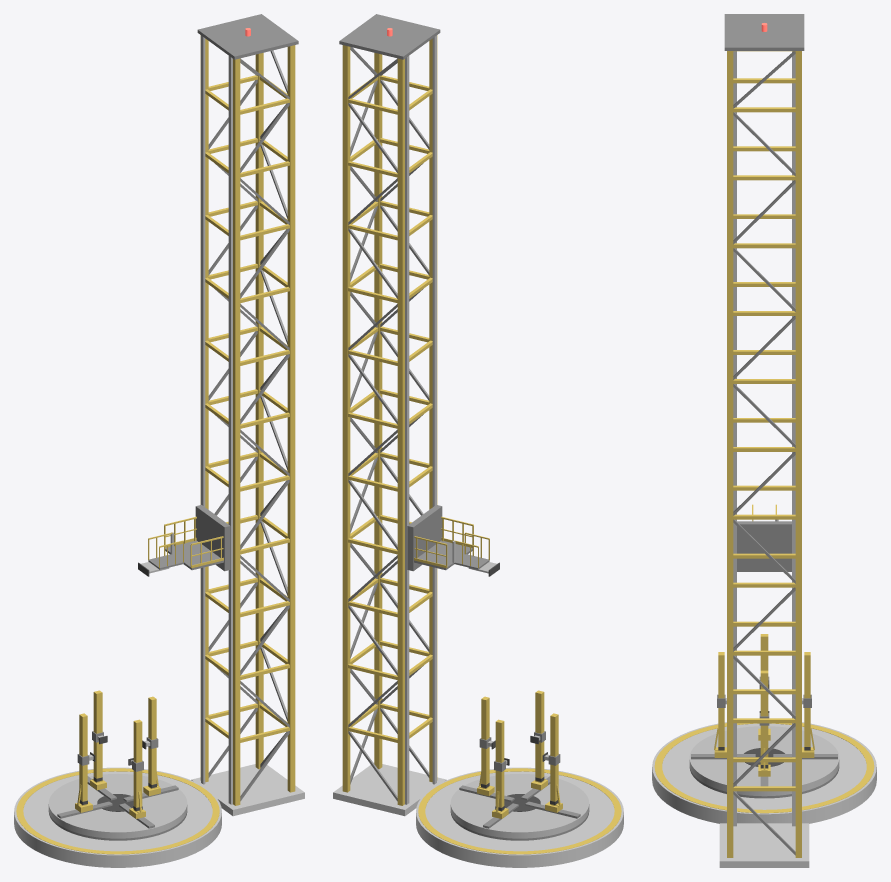
File: rocket-stand.glb
The picture shows the model from 3 angles, left to right: view 1: azimuth 30°, elevation 25°; view 2: azimuth 150°, elevation 25°; view 3: azimuth 270°, elevation 25°; orthographic projection. The views are drawn at different scales.
Parts seen in each view (by area): view 1: tower-columns, tower-girts, base, tower-rails, tower-bracing, turntable-turntable-deck, tower-footing, tower-roof, base-safety-ring, work-platform-carriage, turntable-clamp-rails, work-platform-deck (+5 smaller); view 2: tower-columns, tower-girts, base, tower-bracing, tower-rails, turntable-turntable-deck, tower-footing, tower-roof, base-safety-ring, work-platform-carriage, turntable-clamp-rails, clamp-2-post (+5 smaller); view 3: tower-columns, base, tower-girts, tower-rails, turntable-turntable-deck, tower-bracing, tower-footing, tower-roof, work-platform-carriage, base-safety-ring, clamp-1-post, clamp-2-post (+2 smaller).
Part boxes in pixels (x1,y1,x2,y2): tower-columns: (200, 35, 295, 805); tower-girts: (205, 75, 289, 742); base: (14, 767, 221, 867); tower-rails: (201, 35, 232, 804); tower-bracing: (208, 50, 289, 801); turntable-turntable-deck: (48, 774, 187, 838); tower-footing: (191, 764, 304, 816); tower-roof: (197, 14, 298, 59); base-safety-ring: (16, 768, 219, 854); work-platform-carriage: (195, 505, 230, 571); turntable-clamp-rails: (57, 776, 178, 828); work-platform-deck: (165, 540, 223, 570); tower-columns: (342, 35, 437, 805); tower-girts: (348, 75, 432, 742); base: (416, 767, 623, 867); tower-bracing: (348, 47, 429, 801); tower-rails: (405, 35, 436, 804); turntable-turntable-deck: (450, 774, 589, 838); tower-footing: (333, 762, 446, 816); tower-roof: (339, 14, 440, 59); base-safety-ring: (418, 768, 621, 854); work-platform-carriage: (407, 505, 442, 571); turntable-clamp-rails: (459, 776, 580, 828); clamp-2-post: (535, 690, 544, 782); tower-columns: (727, 51, 801, 857); base: (652, 722, 876, 823); tower-girts: (733, 51, 795, 791); tower-rails: (733, 51, 795, 826); turntable-turntable-deck: (689, 726, 839, 796); tower-bracing: (733, 51, 795, 855); tower-footing: (719, 823, 809, 867); tower-roof: (724, 14, 804, 50); work-platform-carriage: (737, 521, 791, 571); base-safety-ring: (654, 723, 874, 813); clamp-1-post: (760, 670, 768, 768); clamp-2-post: (718, 652, 724, 751).
Bounding box in the file's own units: 12.8 × 36.45 × 9.
